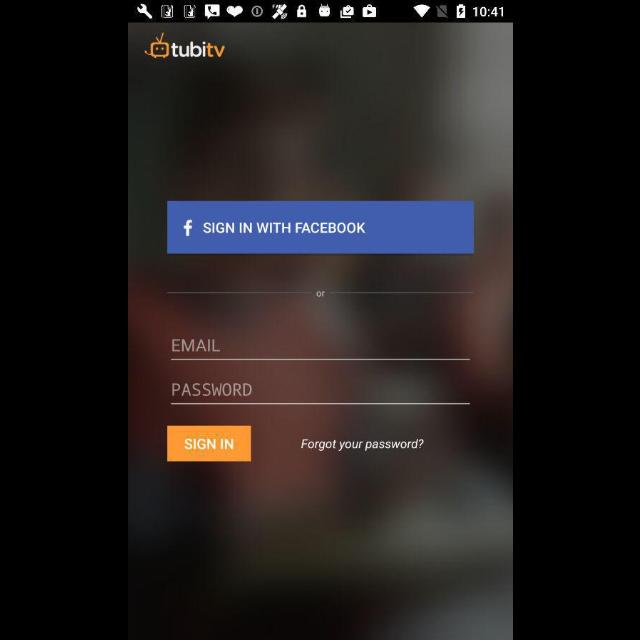image: (143, 32, 225, 59)
input: (170, 339, 470, 361), (170, 383, 470, 405)
text: (301, 438, 424, 452), (172, 383, 250, 397), (172, 339, 220, 353), (316, 291, 324, 297)
textbutton: (166, 201, 474, 255), (167, 426, 251, 462)
uppertaskbar: (128, 1, 512, 23)
